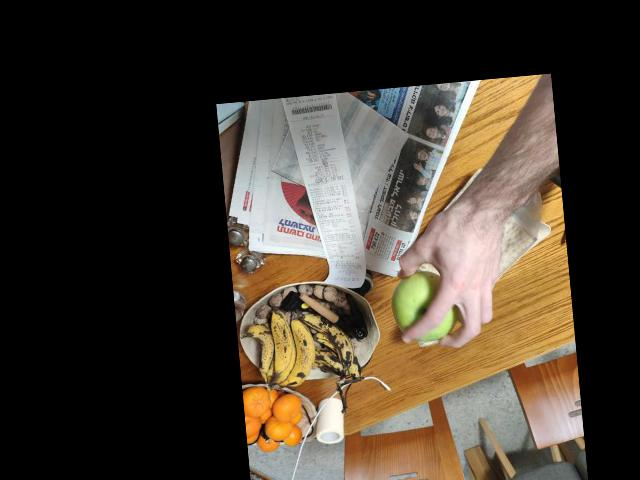apple: (390, 266, 461, 348)
